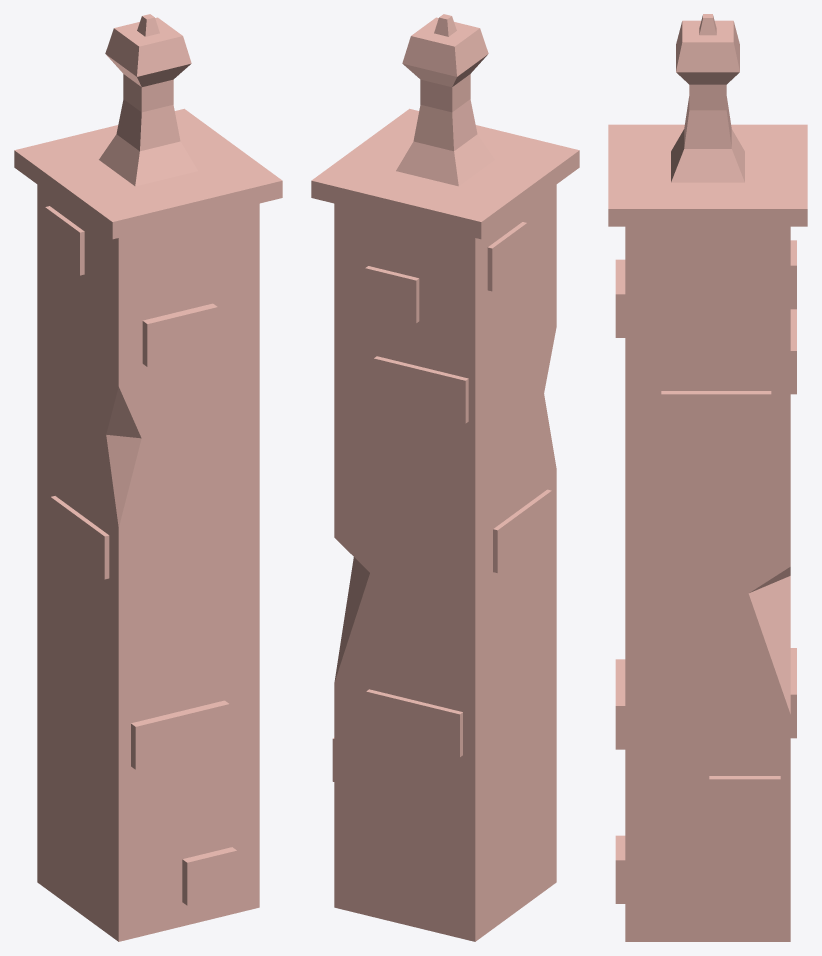
The model's file is Mega_Asset_s_Pack_Cube_215.FBX.
3 views of the same model, side by side, from view 1: azimuth 30°, elevation 25°; view 2: azimuth 150°, elevation 25°; view 3: azimuth 270°, elevation 25° (orthographic).
Parts seen in each view (by area): view 1: Mega_Asset_s_Pack_Cube_215; view 2: Mega_Asset_s_Pack_Cube_215; view 3: Mega_Asset_s_Pack_Cube_215.
Boxes of the visible parts, left/top/right/bottom form: Mega_Asset_s_Pack_Cube_215: left=14, top=14, right=282, bottom=941; Mega_Asset_s_Pack_Cube_215: left=311, top=14, right=579, bottom=941; Mega_Asset_s_Pack_Cube_215: left=608, top=14, right=807, bottom=941.
Size of what is drawn, in the model's own units: 70.82 by 70.82 by 349.
